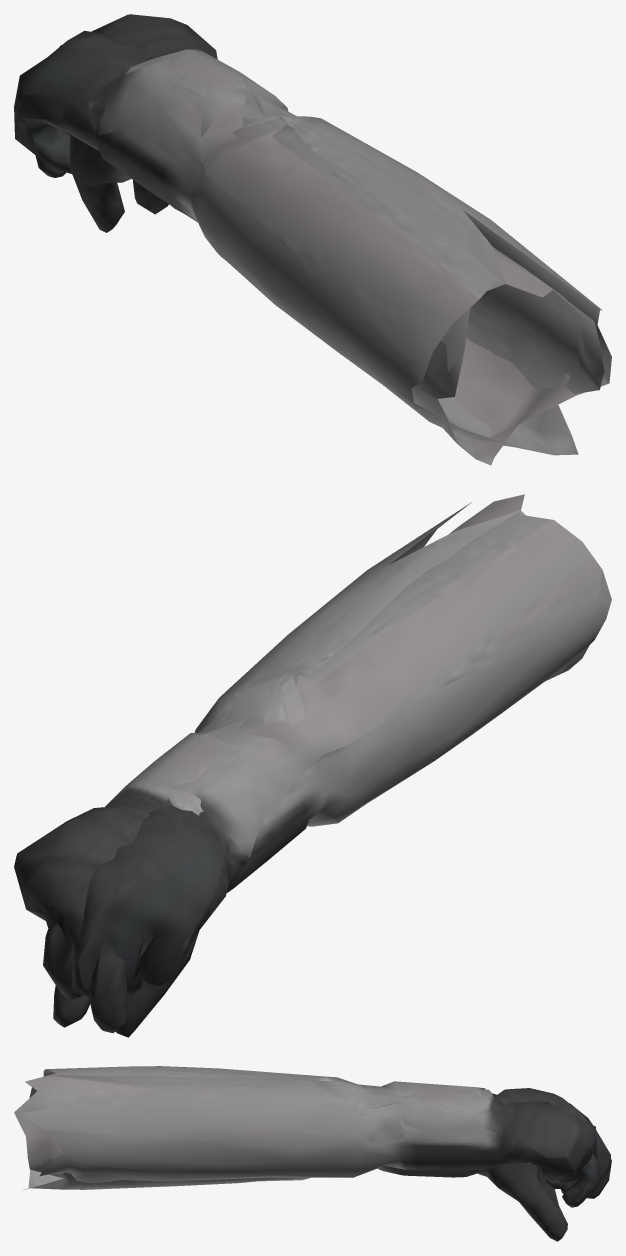
Rendered from arms.glb.
3 renders of one model, top to bottom at view 1: azimuth 30°, elevation 25°; view 2: azimuth 150°, elevation 25°; view 3: azimuth 270°, elevation 25°, orthographic. The views are drawn at different scales.
Parts seen in each view (by area): view 1: arm_l, arm_r; view 2: arm_l, arm_r; view 3: arm_r, arm_l.
Part boxes in pixels (x1,y1,x2,y2): arm_l: [14, 30, 604, 455]; arm_r: [35, 14, 611, 465]; arm_l: [43, 494, 611, 1027]; arm_r: [14, 502, 589, 1037]; arm_r: [19, 1073, 611, 1204]; arm_l: [14, 1066, 610, 1241].
Bounding box in the file's own units: 0.1529 × 0.1812 × 0.6502.
1 material, 1 textured.
